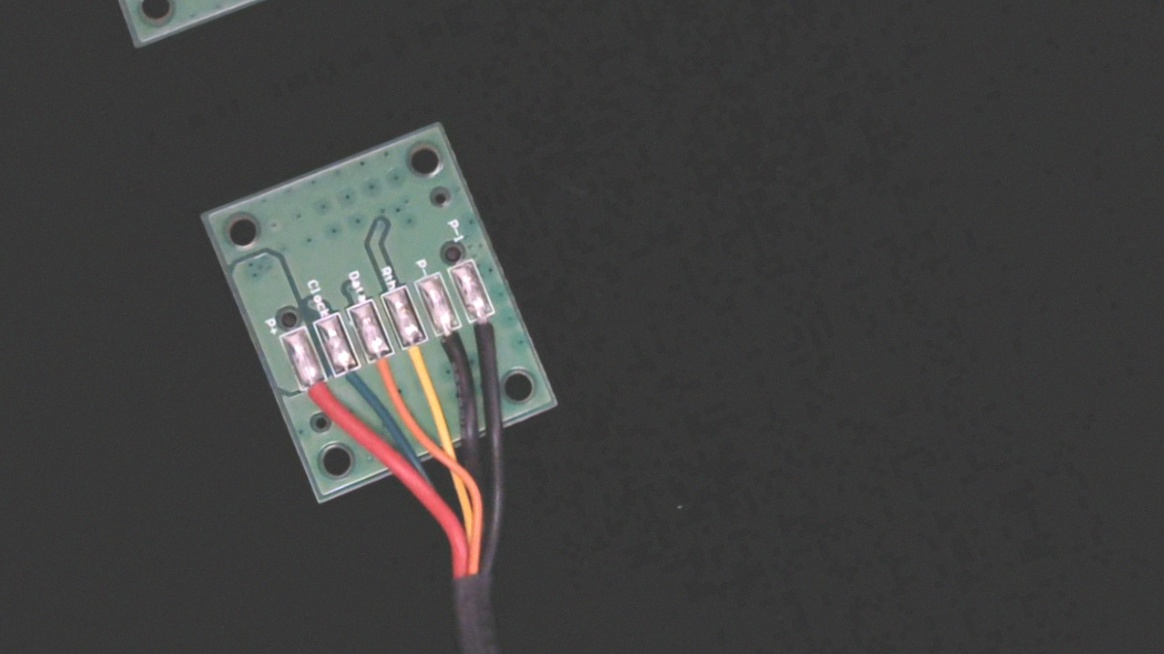Black: (429, 312, 476, 376)
Black1: (463, 296, 514, 365)
Green: (329, 352, 376, 410)
Orange: (362, 338, 412, 404)
Red: (294, 365, 347, 437)
Yellow: (395, 325, 445, 392)
